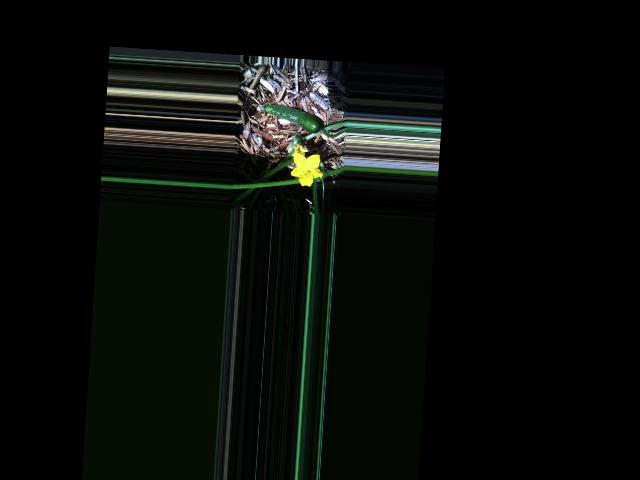cucumber: (257, 102, 323, 134)
